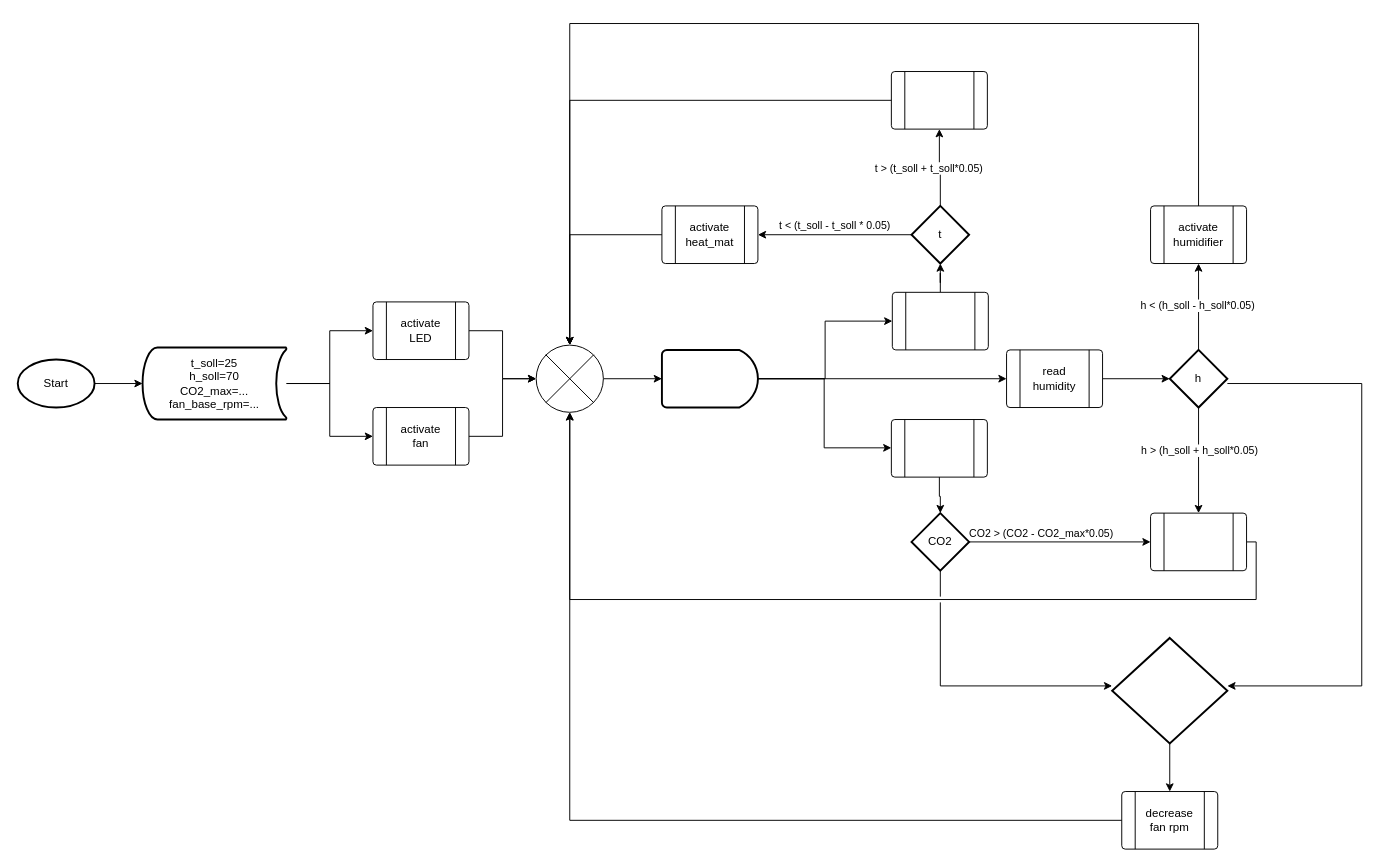
Image size: 1386x866. Some labels were removed from this diagram. Each missing label, with the centre of its shape:
"activate cooling element" goes at (x=938, y=100).
"h < h_soll CO2 < CO2_max" goes at (x=1169, y=690).
"increase fan rpm" goes at (x=1198, y=541).
"read CO2" goes at (x=938, y=448).
"read temperature" goes at (x=939, y=320).
"sleep 60s" goes at (x=709, y=378).
